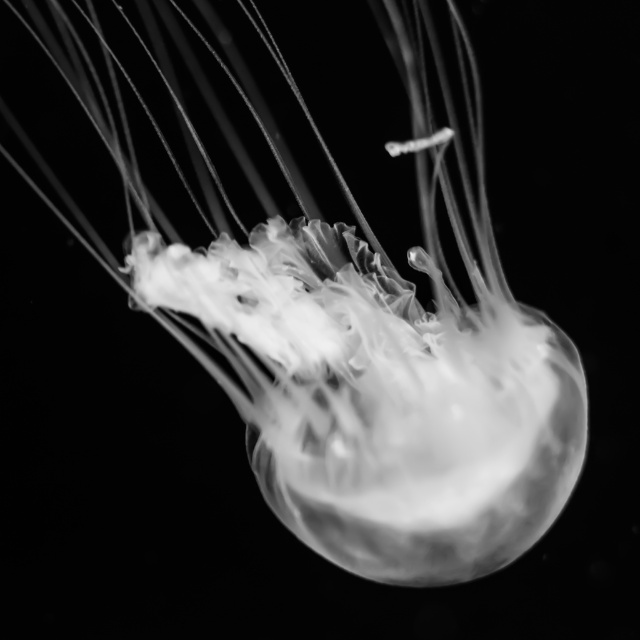Jellyfish: (0, 0, 587, 588)
